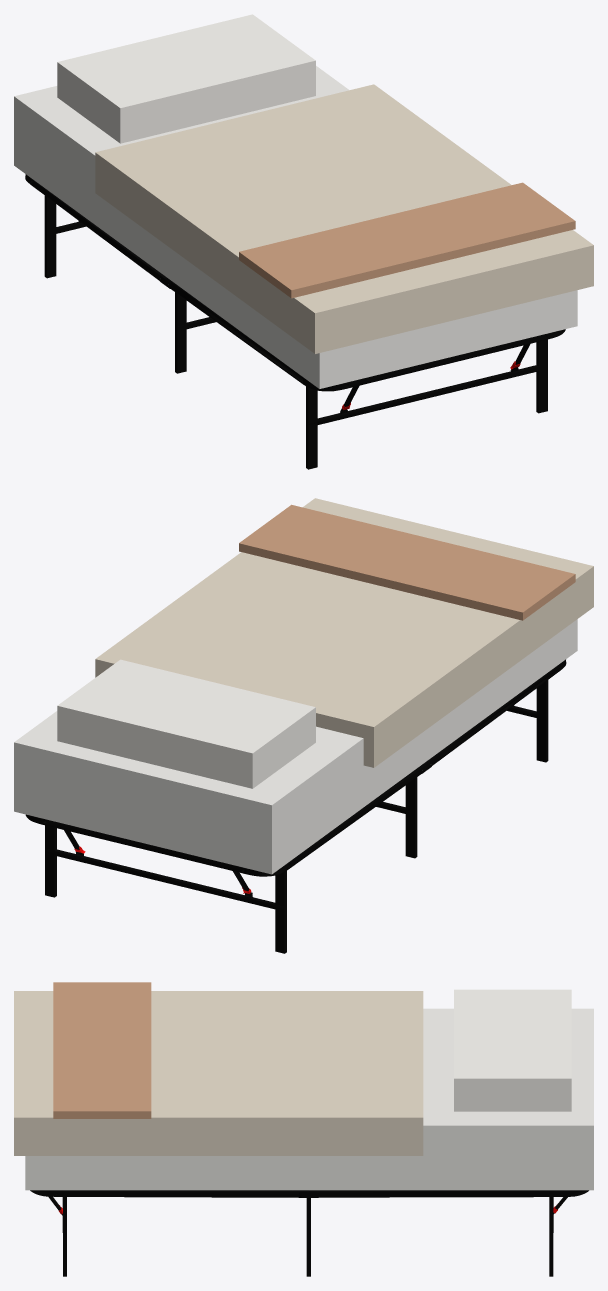
The model's file is B073WQ8JLT.glb.
3 views of the same model, one above another, from view 1: azimuth 30°, elevation 25°; view 2: azimuth 150°, elevation 25°; view 3: azimuth 270°, elevation 25° (orthographic). The views are drawn at different scales.
Parts seen in each view (by area): view 1: duvet, mattress, pillow, throw, "$APJABAKAAJCAAAAAICBAAAAAAAAALNHAAFIN"; view 2: duvet, mattress, pillow, throw, "$APJABAKAAJCAAAAAICBAAAAAAAAALNHAAFIN"; view 3: duvet, mattress, pillow, throw, "$APJABAKAAJCAAAAAICBAAAAAAAAALNHAAFIN".
Boxes of the visible parts, x1,y1,x2,y2 form: duvet: [95, 84, 593, 353]; mattress: [14, 66, 577, 388]; pillow: [57, 14, 315, 143]; throw: [239, 182, 575, 298]; "$APJABAKAAJCAAAAAICBAAAAAAAAALNHAAFIN": [25, 174, 565, 469]; duvet: [95, 498, 593, 767]; mattress: [14, 619, 577, 874]; pillow: [57, 659, 315, 788]; throw: [239, 504, 575, 620]; "$APJABAKAAJCAAAAAICBAAAAAAAAALNHAAFIN": [25, 659, 566, 953]; duvet: [14, 991, 423, 1155]; mattress: [25, 1008, 593, 1190]; pillow: [454, 989, 571, 1111]; throw: [53, 982, 151, 1118]; "$APJABAKAAJCAAAAAICBAAAAAAAAALNHAAFIN": [30, 1190, 588, 1276].
Size of the model in its own units: 1.09 by 0.7415 by 2.07.
5 materials, 1 textured.
